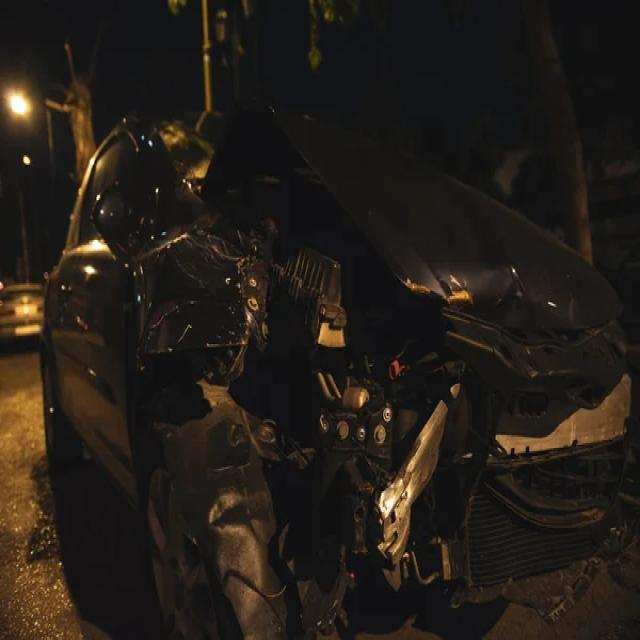Accident: (39, 57, 640, 640)
